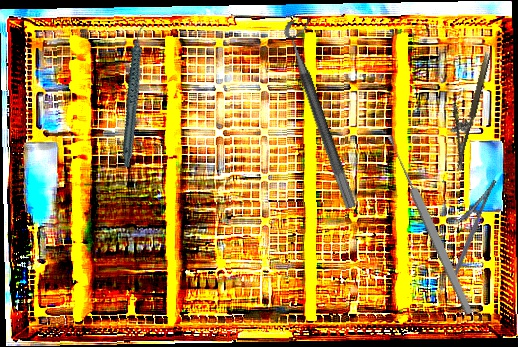Fixation Ring: (281, 15, 373, 210)
Handpiece: (93, 22, 176, 168)
Needle Holder: (438, 48, 493, 171), (437, 173, 498, 282)
Surgical Spoon: (385, 133, 475, 317)
